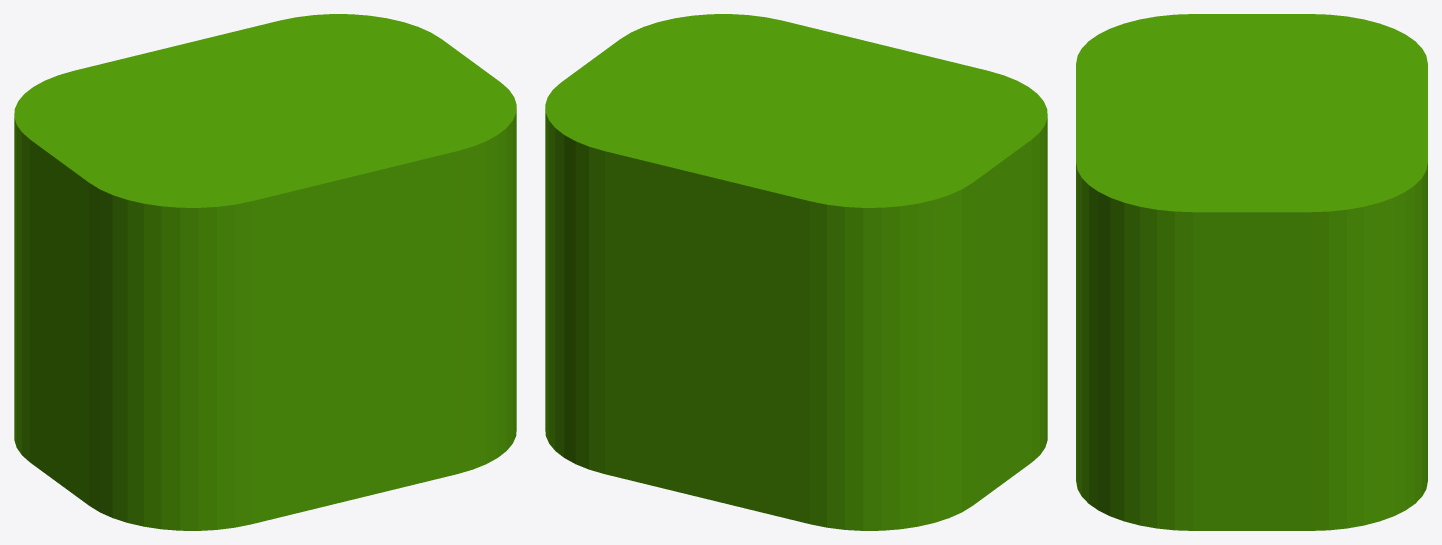
3 renders of one model, left to right at view 1: azimuth 30°, elevation 25°; view 2: azimuth 150°, elevation 25°; view 3: azimuth 270°, elevation 25°, orthographic.
Parts seen in each view (by area): view 1: node0; view 2: node0; view 3: node0.
Part boxes in pixels (x1,y1,x2,y2): node0: [14, 14, 516, 530]; node0: [545, 14, 1047, 530]; node0: [1076, 14, 1427, 530].
Bounding box in the file's own units: 0.08 × 0.06 × 0.06.
